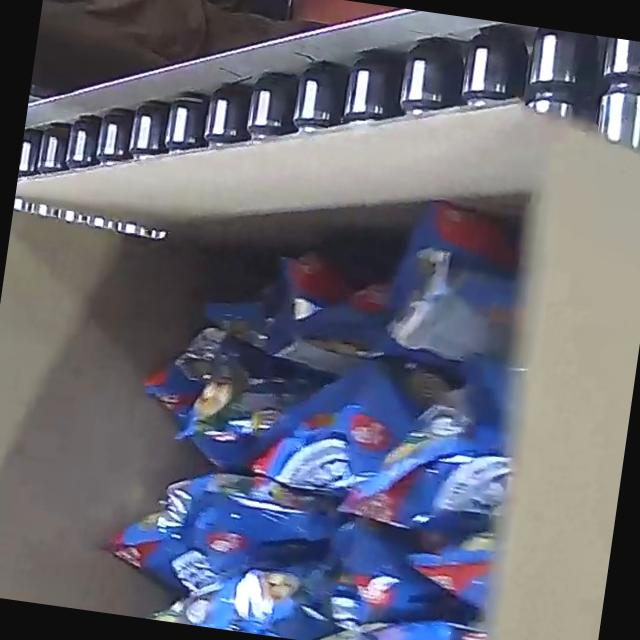paprika: (93, 158, 549, 640)
